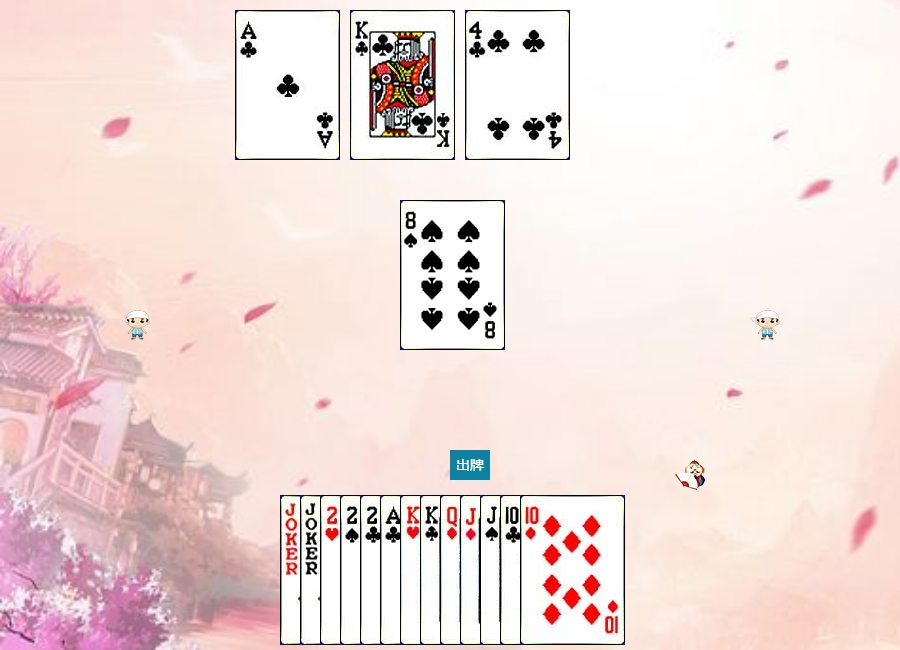10~1: (520, 495, 625, 645)
10~2: (500, 495, 605, 645)
11~1: (460, 495, 565, 645)
11~4: (480, 495, 585, 645)
12~1: (440, 495, 545, 645)
13~2: (350, 10, 455, 160), (420, 495, 525, 645)
13~3: (400, 495, 505, 645)
14~2: (235, 10, 340, 160), (380, 495, 485, 645)
15~2: (360, 495, 465, 645)
15~3: (320, 495, 425, 645)
15~4: (340, 495, 445, 645)
17~3: (300, 495, 405, 645)
18~4: (280, 495, 385, 645)
4~2: (465, 10, 570, 160)
8~4: (400, 200, 505, 350)
